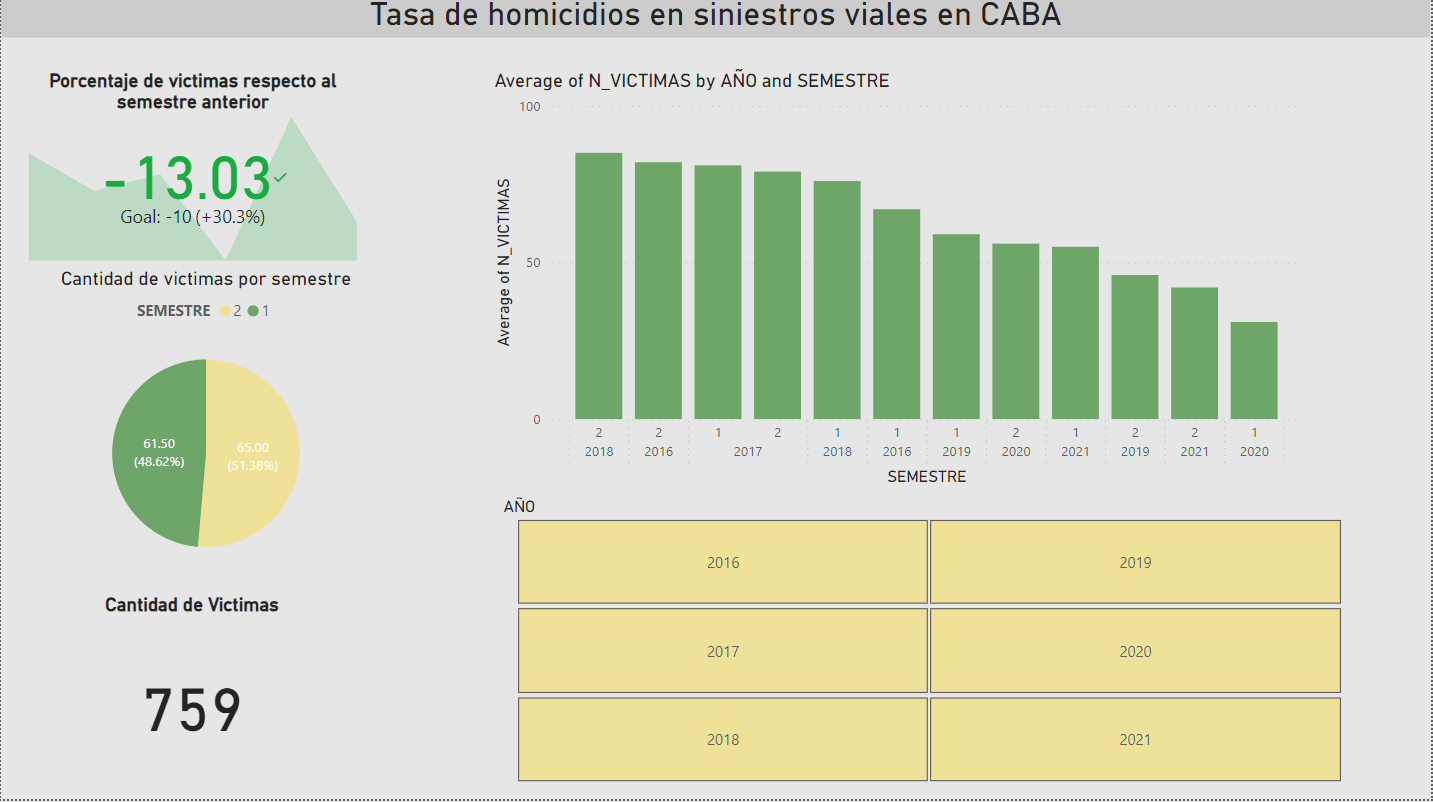

What the dashboard file says about the page in this screenshot:
{"tool":"powerbi","page":{"name":"KPI 1","canvas":[1280,720],"ordinal":2},"visuals":[{"type":"textbox","title":"Tasa de homicidios en siniestros viales en CABA","box":[0,0,1280,38],"z":0},{"type":"card","title":"Cantidad de Victimas","fields":{"Values":["Sum(data_kpi01.N_VICTIMAS)"]},"box":[38,535.9,267,175.6],"z":1000},{"type":"pieChart","title":"Cantidad de victimas por semestre","fields":{"Category":["data_kpi01.SEMESTRE"],"Y":["Avg(data_kpi01.N_VICTIMAS)"]},"box":[10.9,243.5,345.8,286.1],"z":2000},{"type":"kpi","title":"Porcentaje de victimas respecto al semestre anterior","fields":{"Indicator":["Avg(data_kpi01.VARIACION_TASA)"],"TrendLine":["data_kpi01.AÑO"],"Goal":["data_kpi01.objetivo"]},"box":[19.9,66.1,304.2,176.5],"z":3000},{"type":"columnChart","fields":{"Category":["data_kpi01.AÑO","data_kpi01.SEMESTRE"],"Y":["Avg(data_kpi01.N_VICTIMAS)"]},"box":[437.2,66.1,733.2,377.5],"z":4000},{"type":"slicer","fields":{"Values":["data_kpi01.AÑO"]},"box":[437.2,445.4,786.6,266.1],"z":5000}]}

Visuals, with their boxes in screenshot pixels (x1, y1, x2, y2), scaled from the page's 1280x720 canvas onto the 1433x802 screenshot:
"Tasa de homicidios en siniestros viales en CABA" textbox: 0/0/1432/42
"Cantidad de Victimas" card: 43/597/341/793
"Cantidad de victimas por semestre" pieChart: 12/271/399/590
"Porcentaje de victimas respecto al semestre anterior" kpi: 22/74/363/270
columnChart - data_kpi01.AÑO x data_kpi01.SEMESTRE: 489/74/1310/494
slicer - data_kpi01.AÑO: 489/496/1370/793
